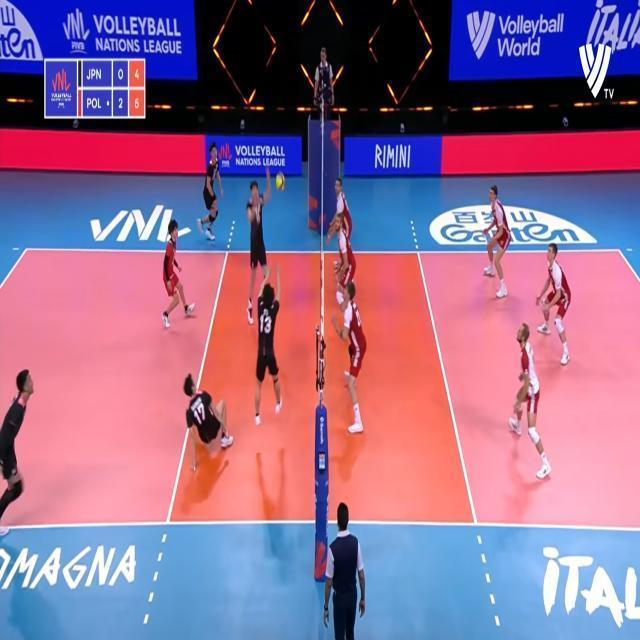volleyball: (276, 172, 286, 192)
